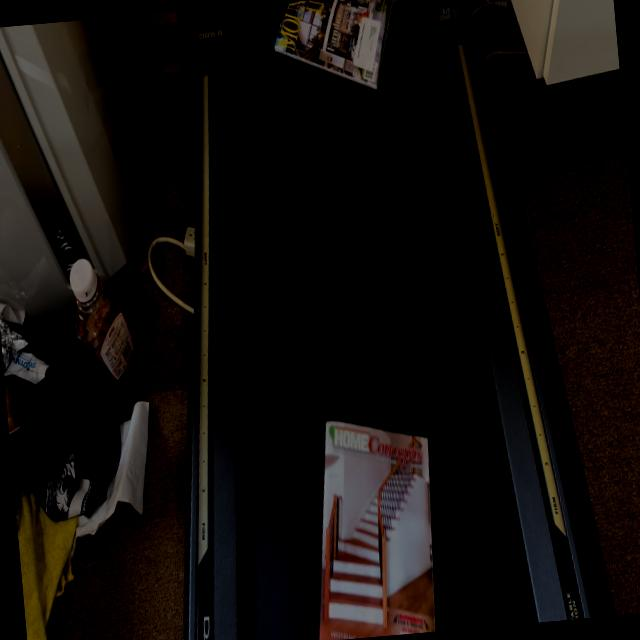Trash: (294, 389, 458, 640), (253, 0, 418, 116)
